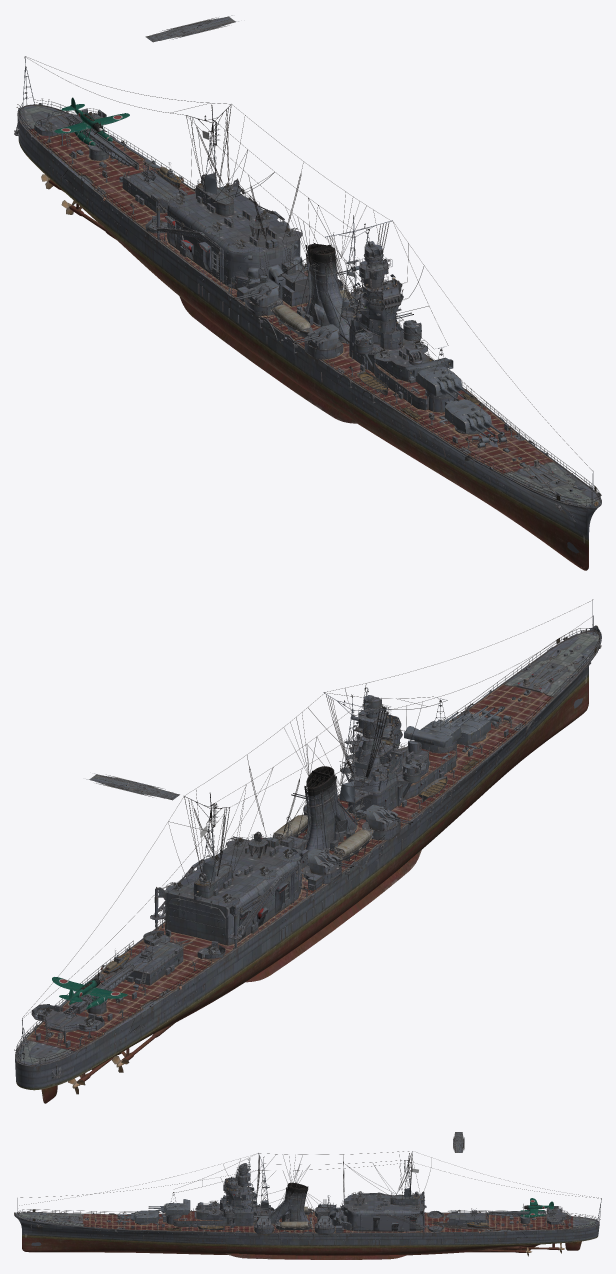
Rendered from ijn_oyodo_war_thunder_line_of_contact-maximum-compressed.glb.
3 renders of one model, top to bottom at view 1: azimuth 30°, elevation 25°; view 2: azimuth 150°, elevation 25°; view 3: azimuth 270°, elevation 25°, orthographic. The views are drawn at different scales.
Visible parts, largest first — view 1: Object_25, Object_90, Object_61, Object_17, Object_42, Object_75, Object_73, Object_70, Object_78, Object_72, Object_13, Object_24 (+14 smaller); view 2: Object_25, Object_61, Object_90, Object_17, Object_42, Object_75, Object_73, Object_70, Object_6, Object_78, Object_24, Object_74 (+20 smaller); view 3: Object_25, Object_90, Object_61, Object_17, Object_42, Object_74, Object_70, Object_73, Object_78, Object_72, Object_24, Object_86 (+20 smaller).
Part boxes in pixels (x1,y1,x2,y2): Object_25: [17, 104, 600, 541]; Object_90: [18, 140, 588, 570]; Object_61: [29, 128, 553, 473]; Object_17: [18, 56, 600, 503]; Object_42: [38, 113, 429, 367]; Object_75: [164, 189, 275, 289]; Object_73: [297, 253, 362, 344]; Object_70: [349, 329, 457, 410]; Object_78: [19, 104, 587, 553]; Object_72: [349, 276, 403, 321]; Object_13: [404, 357, 461, 396]; Object_24: [41, 135, 545, 467]; Object_25: [15, 625, 601, 1089]; Object_61: [27, 685, 552, 1051]; Object_90: [19, 677, 588, 1103]; Object_17: [16, 601, 600, 1062]; Object_42: [32, 736, 428, 1031]; Object_75: [194, 840, 307, 945]; Object_73: [303, 772, 402, 854]; Object_70: [348, 743, 457, 819]; Object_6: [21, 633, 599, 1063]; Object_78: [16, 645, 597, 1065]; Object_24: [68, 693, 545, 1094]; Object_74: [163, 835, 273, 937]; Object_25: [14, 1212, 599, 1246]; Object_90: [22, 1235, 585, 1259]; Object_61: [83, 1211, 572, 1232]; Object_17: [18, 1151, 598, 1237]; Object_42: [195, 1182, 567, 1231]; Object_74: [333, 1203, 424, 1231]; Object_70: [173, 1200, 256, 1227]; Object_73: [267, 1187, 311, 1224]; Object_78: [31, 1213, 598, 1245]; Object_72: [223, 1176, 253, 1200]; Object_24: [95, 1172, 564, 1256]; Object_86: [345, 1191, 499, 1229].
Size of the model in its own units: 26.88 by 42.13 by 193.
32 materials, 32 textured.
